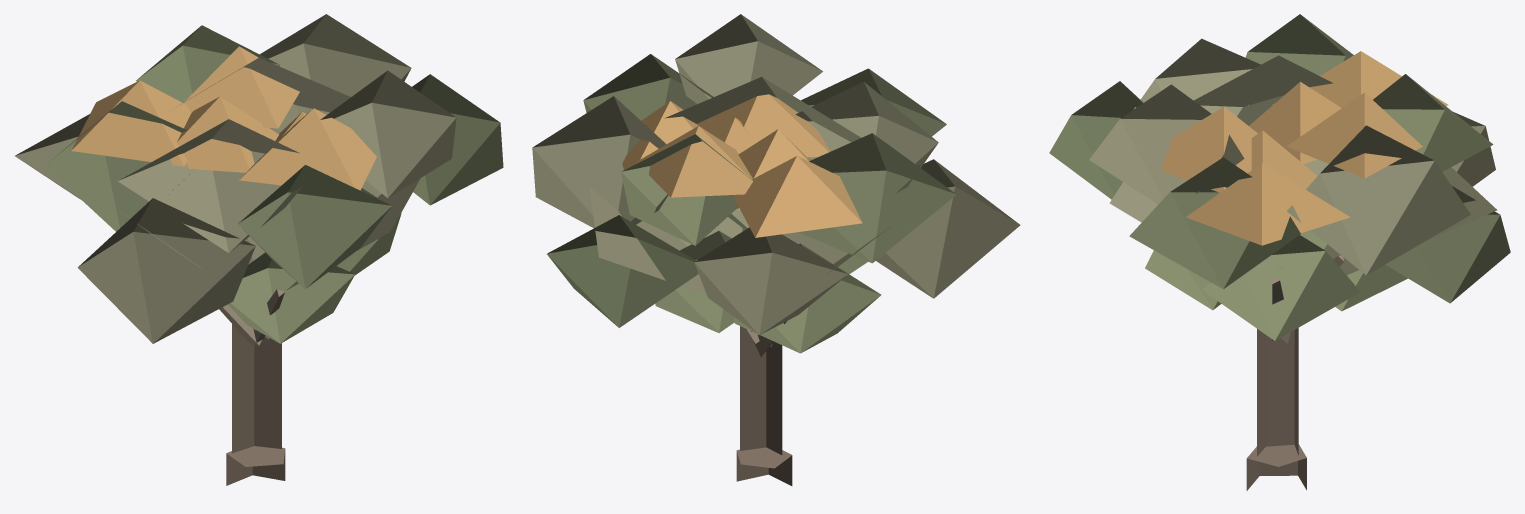
The model's file is tree.trop.flame_tree__winter.glb.
3 views of the same model, side by side, from view 1: azimuth 30°, elevation 25°; view 2: azimuth 150°, elevation 25°; view 3: azimuth 270°, elevation 25° (orthographic). The views are drawn at different scales.
Parts seen in each view (by area): view 1: tree.trop.flame_tree__winter; view 2: tree.trop.flame_tree__winter; view 3: tree.trop.flame_tree__winter.
Boxes of the visible parts, left/top/right/bottom form: tree.trop.flame_tree__winter: left=15, top=14, right=503, bottom=485; tree.trop.flame_tree__winter: left=532, top=14, right=1020, bottom=485; tree.trop.flame_tree__winter: left=1049, top=14, right=1510, bottom=490.
Size of the model in its own units: 12.01 by 11.93 by 11.36.
